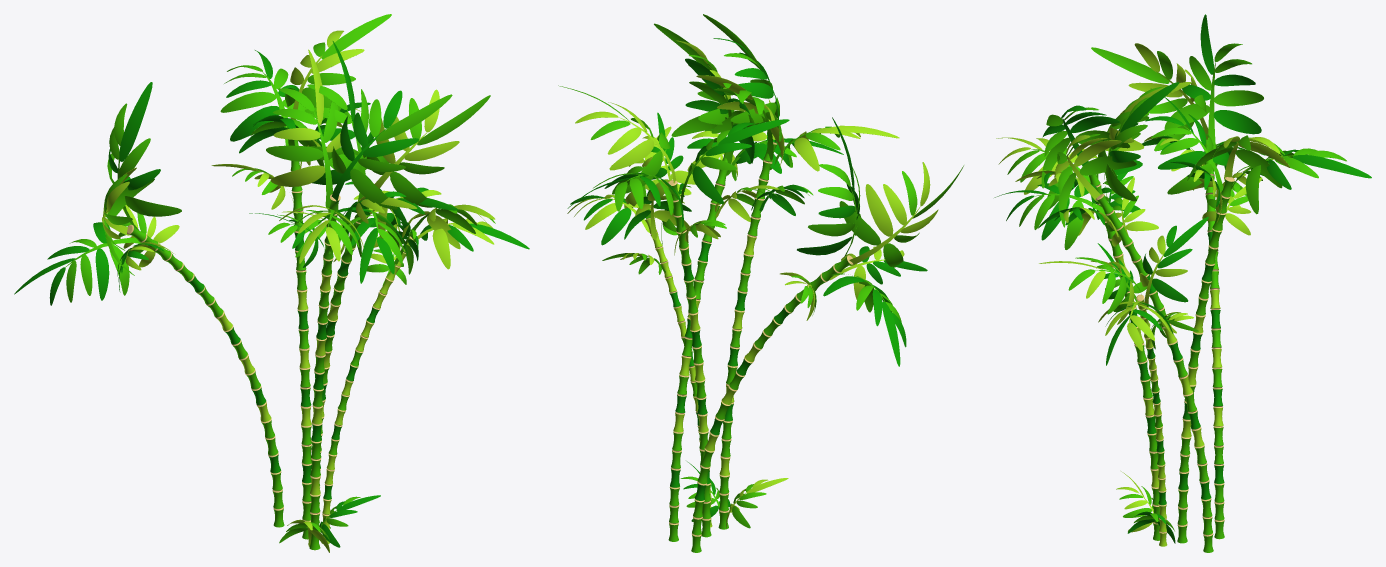
File: BambooAssets.fbx
3 views of the same model, side by side, from view 1: azimuth 30°, elevation 25°; view 2: azimuth 150°, elevation 25°; view 3: azimuth 270°, elevation 25° (orthographic). The views are drawn at different scales.
Parts seen in each view (by area): view 1: module.008, module.012, module.009, module.011, module.010, Plane.008, Plane.009; view 2: module.012, module.009, module.008, module.011, module.010, Plane.009; view 3: module.011, module.009, module.012, module.010, module.008, Plane.009, Plane.008.
Part boxes in pixels (box(x1,y1,x2,y2)): module.008: box(249, 49, 452, 550); module.012: box(14, 82, 284, 527); module.009: box(211, 14, 391, 539); module.011: box(282, 41, 490, 522); module.010: box(321, 175, 529, 543); Plane.008: box(319, 495, 380, 547); Plane.009: box(279, 519, 329, 552); module.012: box(691, 117, 963, 552); module.009: box(558, 85, 789, 537); module.008: box(696, 14, 899, 529); module.011: box(654, 23, 843, 541); module.010: box(567, 126, 712, 527); Plane.009: box(726, 478, 788, 528); module.011: box(994, 82, 1213, 552); module.009: box(1145, 88, 1371, 543); module.012: box(1091, 14, 1274, 539); module.010: box(1039, 217, 1208, 546); module.008: box(996, 82, 1190, 540); Plane.009: box(1116, 471, 1153, 532); Plane.008: box(1127, 511, 1175, 543).
Bounding box in the file's own units: 3846 × 4207 × 3069.
